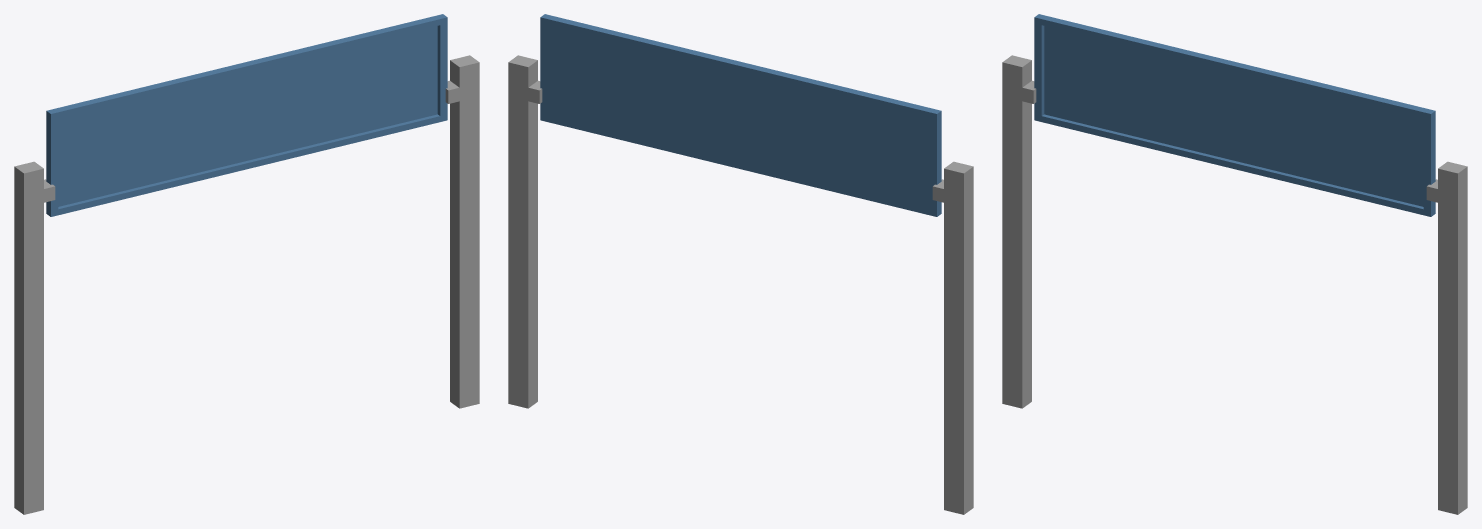
The model's file is panneau ville.fbx.
3 views of the same model, side by side, from view 1: azimuth 30°, elevation 25°; view 2: azimuth 150°, elevation 25°; view 3: azimuth 330°, elevation 25° (orthographic).
Parts seen in each view (by area): view 1: panneau_ville1_pCube2; view 2: panneau_ville1_pCube2; view 3: panneau_ville1_pCube2.
Part boxes in pixels (x1=…): panneau_ville1_pCube2: x1=14, y1=14, x2=479, y2=514; panneau_ville1_pCube2: x1=508, y1=14, x2=973, y2=514; panneau_ville1_pCube2: x1=1002, y1=14, x2=1467, y2=514.
Size of the model in its own units: 6.59 by 5.42 by 0.2413.
